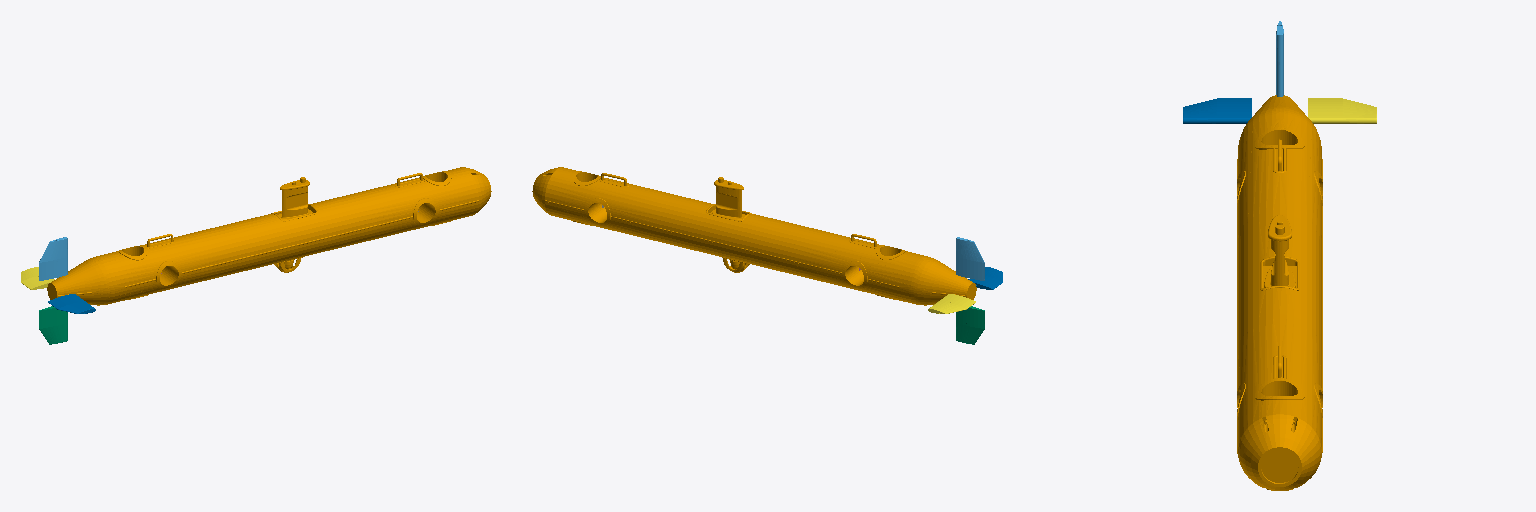
robot.urdf — torpedo:
<?xml version='1.0'?>
<robot name="torpedo">

  <!-- Main Body -->
  <link name="base_link">
    <visual>
      <origin xyz="0 0 0" rpy="0 0 0" />
      <geometry>
      	<mesh filename="package://auv/meshes/torpedo.dae"/>
      </geometry>
    </visual>
		<!-- collision factor -->
		<collision>
      <origin xyz="0 0 0" rpy="0 0 0" />
      <geometry>
      	<mesh filename="package://auv/meshes/torpedo.dae"/>
      </geometry>
    </collision>
  </link>
  <gazebo reference="base_link">
	<material>Gazebo/Grey</material>
	<pose>0 0 6 0 0 0</pose>
  </gazebo>

	<!-- Fin Group -->
	<link name="fin_1">
		<visual>
			<origin xyz="0 0 0" rpy="0 0 0"/>
			<geometry>
				<mesh filename="package://auv/meshes/fin.dae"/>
    	</geometry>
    </visual>
		<!-- collision factor -->
		<collision>
			<origin xyz="0 0 0" rpy="0 0 0"/>
			<geometry>
				<mesh filename="package://auv/meshes/fin.dae"/>
    	</geometry>
    </collision>
  	</link>
	<gazebo reference="fin_1">
	  <material>Gazebo/Blue</material>
	</gazebo>

	<joint name="vf_1" type="revolute">
		<parent link="base_link"/>
		<child link="fin_1"/>
		<origin xyz="-6.0 0 0.82" rpy="0 0 0"/>
		<axis xyz="0 0 1"/>
		<limit effort="1.0" lower="-0.7853982" upper="0.7853982" velocity="0.1"/>
	</joint>

	<link name="fin_2">
		<visual>
			<origin xyz="0 0 0" rpy="3.14 0 0"/>
			<geometry>
				<mesh filename="package://auv/meshes/fin.dae"/>
      </geometry>
		<!-- collision factor -->
		<collision>
			<origin xyz="0 0 0" rpy="3.14 0 0"/>
			<geometry>
				<mesh filename="package://auv/meshes/fin.dae"/>
    	</geometry>
    </collision>
    </visual>
  	</link>
	<gazebo reference="fin_2">
	  <material>Gazebo/Blue</material>
	</gazebo>

	<joint name="vf_2" type="revolute">
		<parent link="base_link"/>
		<child link="fin_2"/>
		<origin xyz="-6.0 0 -0.82" rpy="0 0 0"/>
		<axis xyz="0 0 1"/>
		<limit effort="1.0" lower="-0.7853982" upper="0.7853982" velocity="0.1"/>
	</joint>

	<link name="fin_3">
		<visual>
			<origin xyz="0 0 0" rpy="-1.570796 0 0"/>
			<geometry>
				<mesh filename="package://auv/meshes/fin.dae"/>
      </geometry>
    </visual>
		<!-- collision factor -->
		<collision>
			<origin xyz="0 0 0" rpy="-1.570796 0 0"/>
			<geometry>
				<mesh filename="package://auv/meshes/fin.dae"/>
    	</geometry>
    </collision>
  	</link>
	<gazebo reference="fin_3">
	  <material>Gazebo/Blue</material>
	</gazebo>
	<joint name="hf_1" type="revolute">
		<parent link="base_link"/>
		<child link="fin_3"/>
		<origin xyz="-6.0 0.83 0" rpy="0 0 0"/>
		<axis xyz="0 0 1"/>
		<limit effort="1.0" lower="-0.7853982" upper="0.7853982" velocity="0.1"/>
	</joint>

	<link name="fin_4">
		<visual>
			<origin xyz="0 0 0" rpy="1.570796 0 0"/>
			<geometry>
				<mesh filename="package://auv/meshes/fin.dae"/>
      		</geometry>
		</visual>
		<!-- collision factor -->
		<collision>
			<origin xyz="0 0 0" rpy="1.570796 0 0"/>
			<geometry>
				<mesh filename="package://auv/meshes/fin.dae"/>
    		</geometry>
    	</collision>
  	</link>
  	<gazebo reference="fin_3">
		<material>Gazebo/Blue</material>
  	</gazebo>
	<joint name="hf_2" type="revolute">
		<parent link="base_link"/>
		<child link="fin_4"/>
		<origin xyz="-6.0 -0.83 0" rpy="0 0 0"/>
		<axis xyz="0 1 0"/>
		<limit effort="1.0" lower="-0.7853982" upper="0.7853982" velocity="0.1"/>
	</joint>

	<!-- Thruster/tail Group -->
	<link name="tail_1">
		<visual>
			<origin xyz="0 0 0" rpy="0 0 0"/>
			<geometry>
				<mesh filename="package://auv/meshes/tail.dae"/>
			</geometry>
		</visual>
	</link>
	<gazebo reference="tail_1">
		<material>Gazebo/Red</material>
	</gazebo>
	<joint name="th_1" type="continuous">
		<parent link="base_link"/>
		<child link="tail_1"/>
		<origin xyz="-3.885 0 0" rpy="0 0 0"/>
		<axis xyz="0 0 1"/>
	</joint>

	<link name="tail_2">
		<visual>
			<origin xyz="0 0 0" rpy="1.570796 0 0"/>
			<geometry>
				<mesh filename="package://auv/meshes/tail.dae"/>
			</geometry>
		</visual>
	</link>
	<gazebo reference="tail_2">
		<material>Gazebo/Red</material>
	</gazebo>
	<joint name="th_2" type="continuous">
		<parent link="base_link"/>
		<child link="tail_2"/>
		<origin xyz="-3.243 0 0" rpy="0 0 0"/>
		<axis xyz="0 1 0"/>
	</joint>

	<link name="tail_3">
		<visual>
			<origin xyz="0 0 0" rpy="-1.570796 0 0"/>
			<geometry>
				<mesh filename="package://auv/meshes/tail.dae"/>
			</geometry>
		</visual>
	</link>
	<gazebo reference="tail_3">
		<material>Gazebo/Red</material>
	</gazebo>
	<joint name="th_3" type="continuous">
		<parent link="base_link"/>
		<child link="tail_3"/>
		<origin xyz="3.777 0 0" rpy="0 0 0"/>
		<axis xyz="0 1 0"/>
	</joint>

	<link name="tail_4">
		<visual>
			<origin xyz="0 0 0" rpy="0 0 0"/>
			<geometry>
				<mesh filename="package://auv/meshes/tail.dae"/>
			</geometry>
		</visual>
	</link>
	<gazebo reference="tail_4">
		<material>Gazebo/Red</material>
	</gazebo>
	<joint name="th_4" type="continuous">
		<parent link="base_link"/>
		<child link="tail_4"/>
		<origin xyz="4.415 0 0" rpy="0 0 0"/>
		<axis xyz="0 0 1"/>
	</joint>
</robot>

--- Facts derived from the render (not from the file) ---
The picture shows the robot from 3 angles, left to right: view 1: azimuth 30°, elevation 25°; view 2: azimuth 150°, elevation 25°; view 3: azimuth 270°, elevation 25°; orthographic projection.
Model torpedo with 9 links and 8 joints (4 revolute, 4 continuous), rooted at base_link, posed every joint at zero.
Links seen in each view (by area): view 1: base_link, fin_1, fin_2, fin_4; view 2: base_link, fin_1, fin_2, fin_3; view 3: base_link, fin_4, fin_3, fin_1.
Boxes of the visible links, box(x1,y1,x2,y2) form: base_link: box(47, 167, 491, 305); fin_1: box(39, 237, 67, 280); fin_2: box(39, 306, 67, 344); fin_4: box(48, 294, 95, 313); base_link: box(532, 167, 976, 305); fin_1: box(956, 237, 984, 280); fin_2: box(956, 306, 984, 344); fin_3: box(928, 294, 975, 313); base_link: box(1237, 95, 1322, 490); fin_4: box(1183, 98, 1251, 123); fin_3: box(1308, 98, 1376, 123); fin_1: box(1276, 21, 1283, 96).
Bounding box of the posed robot: 12.19 × 2.71 × 2.74 m (x, y, z).
9 mesh visuals loaded from 3 distinct referenced files (3 Collada DAE).